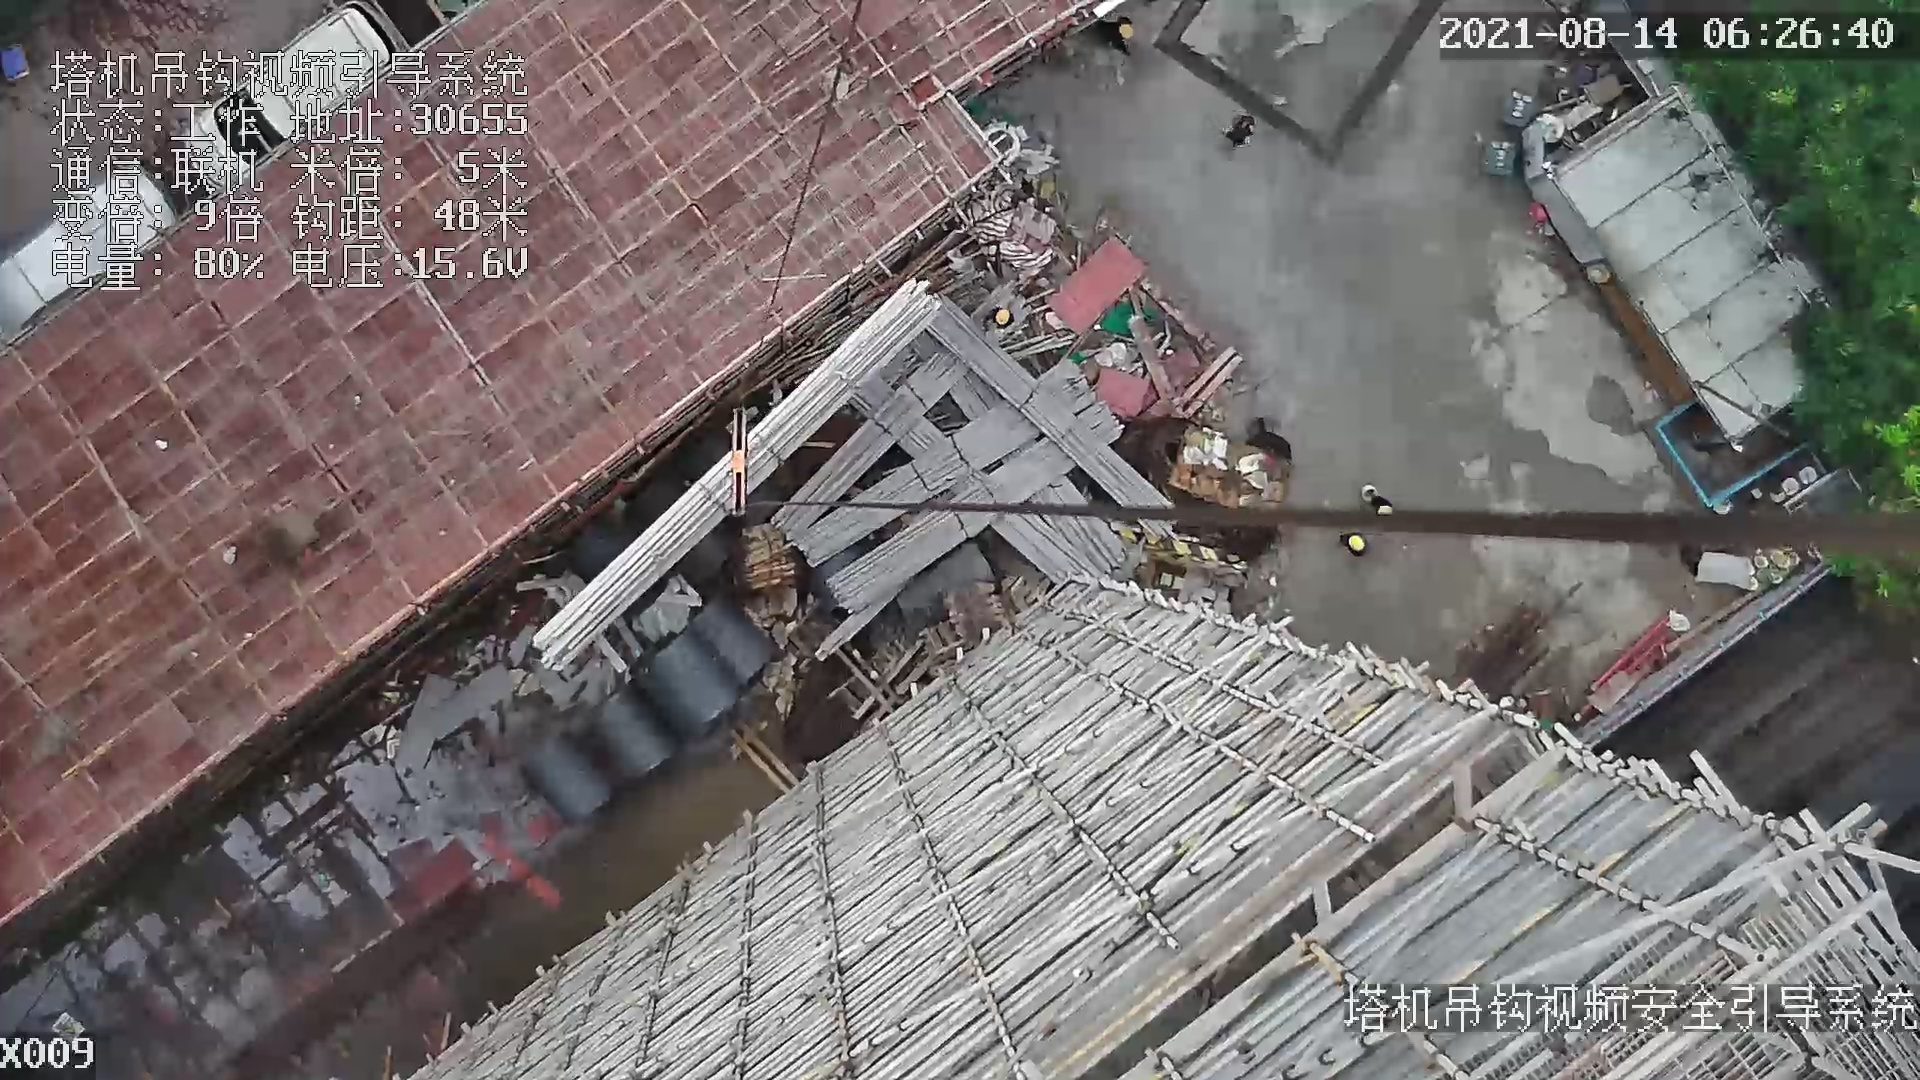helmet: (1347, 532, 1366, 557), (991, 307, 1013, 328)
hook: (731, 406, 764, 513)
person: (981, 303, 1018, 339), (1342, 533, 1373, 568)
